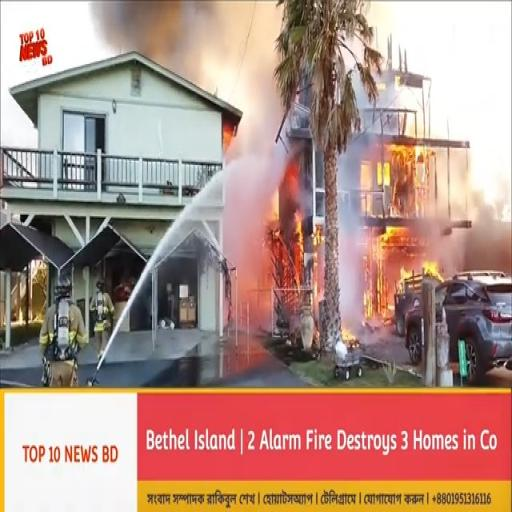fire: (387, 139, 418, 179)
